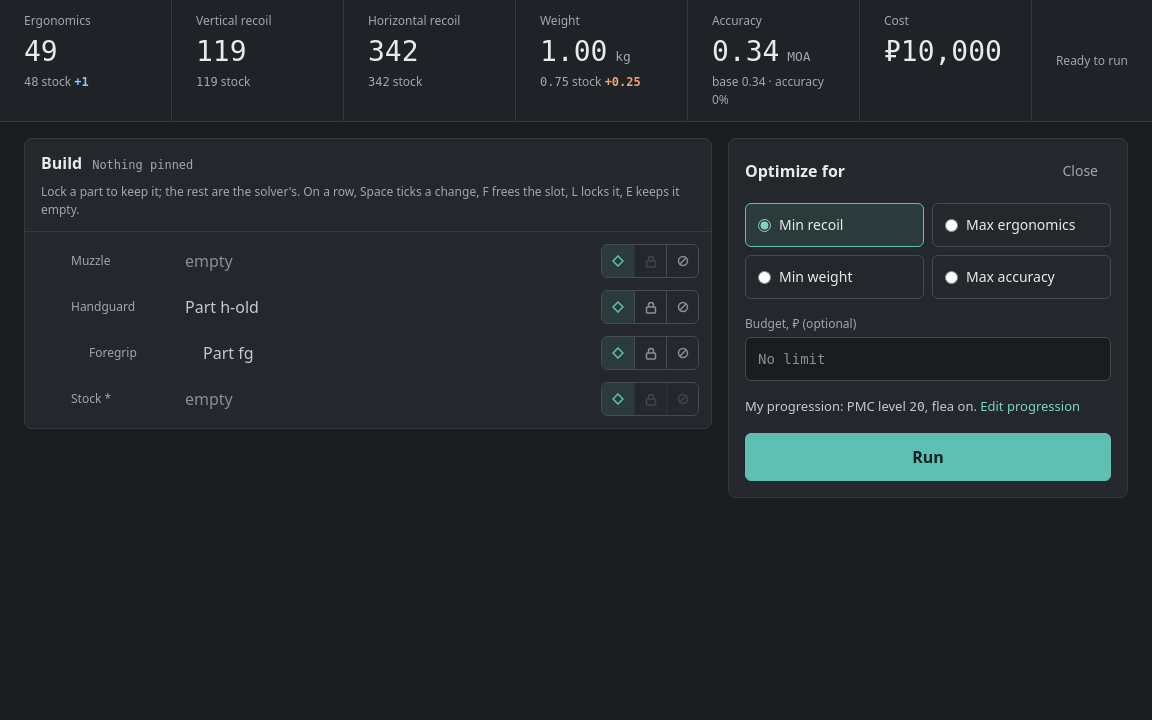
Test case: OptimizeWorkbench › pins › asks before keeping a slot empty clears the pins below it, and focus comes back
The image size is (1152, 720).
Press l in the list item "Foregrip Part fg", box top-left (25, 330), bottom-right (711, 376)
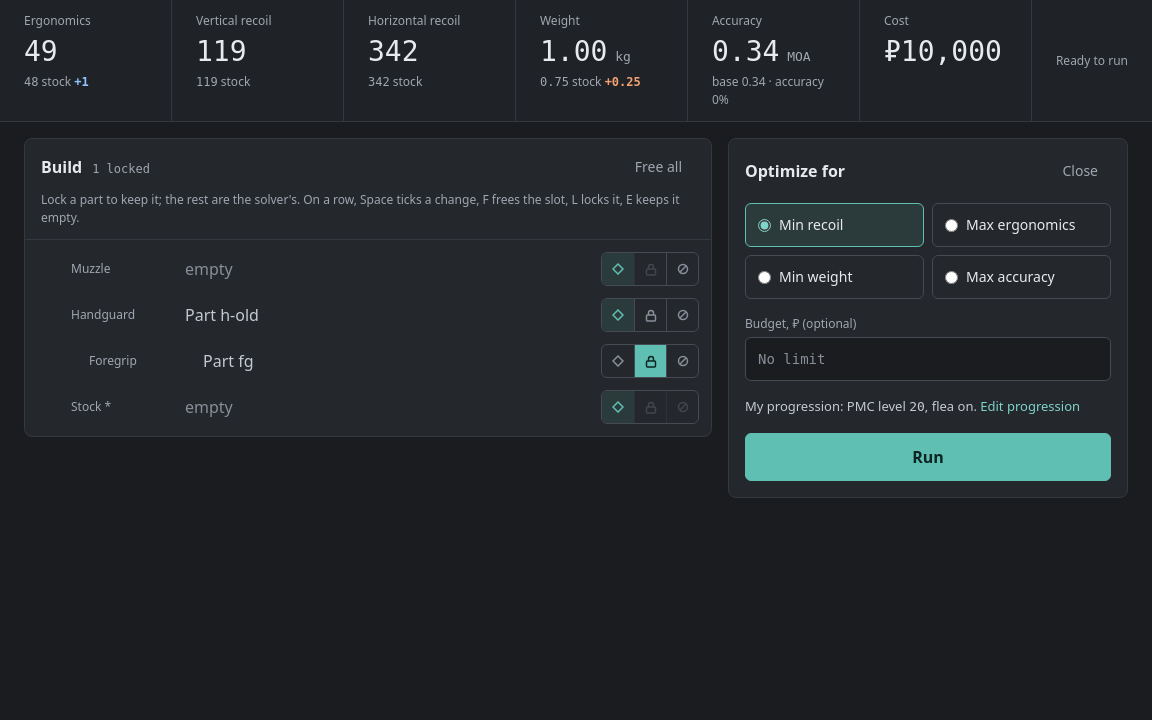
Result: the text "1 locked" is shown at top-left (92, 160), bottom-right (150, 178)
Press e in the list item "Handguard Part h-old", box top-left (25, 292), bottom-right (711, 338)
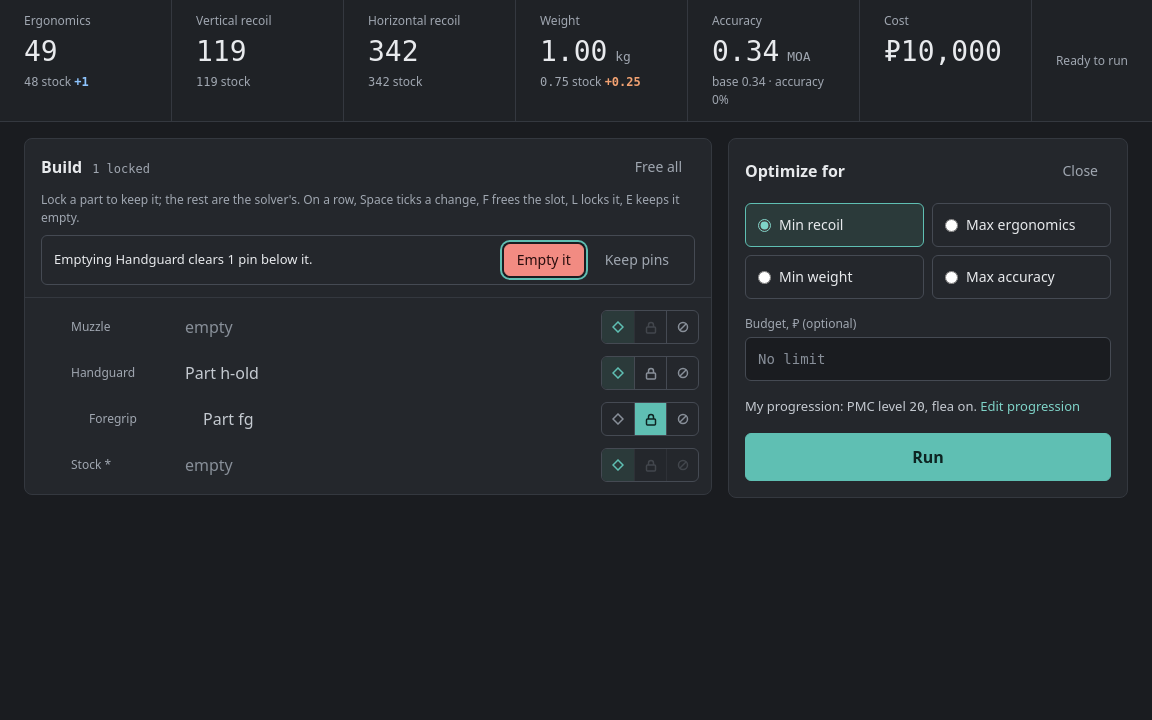
Result: the element named "Empty Handguard" shows "Emptying Handguard clears 1 pin below it." at top-left (41, 235), bottom-right (695, 285)
Click the button "Keep pins".
click(637, 260)  # box top-left (592, 244), bottom-right (682, 276)
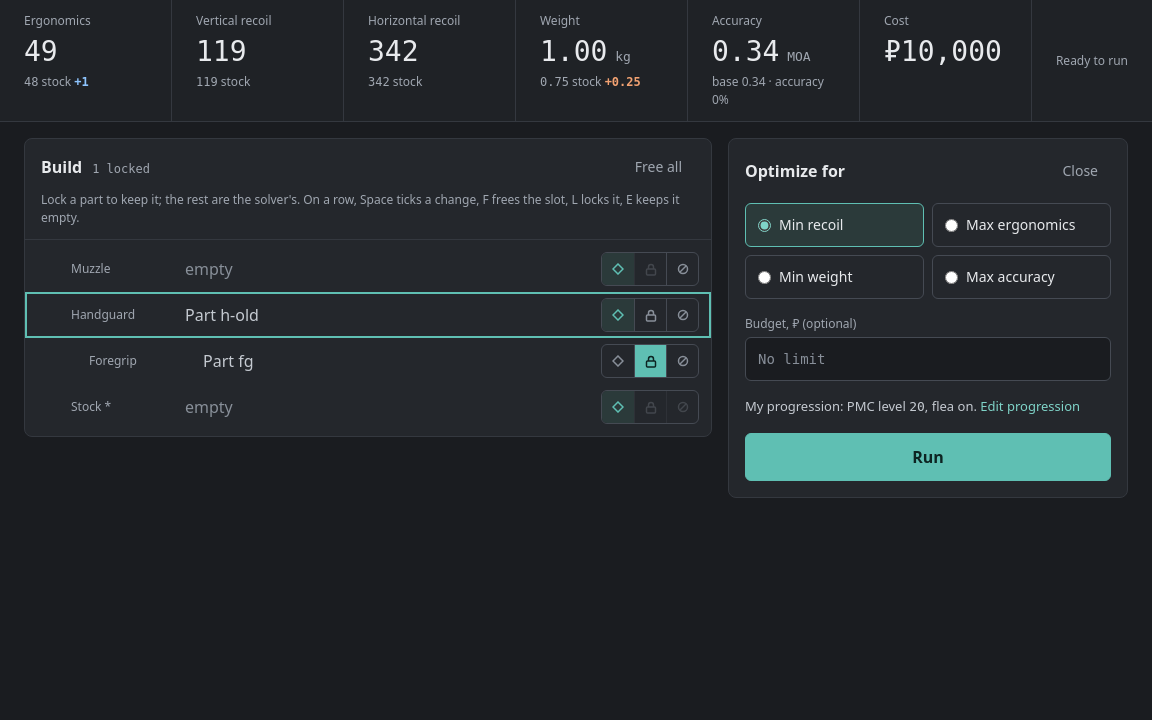
Press e in the list item "Handguard Part h-old", box top-left (25, 292), bottom-right (711, 338)
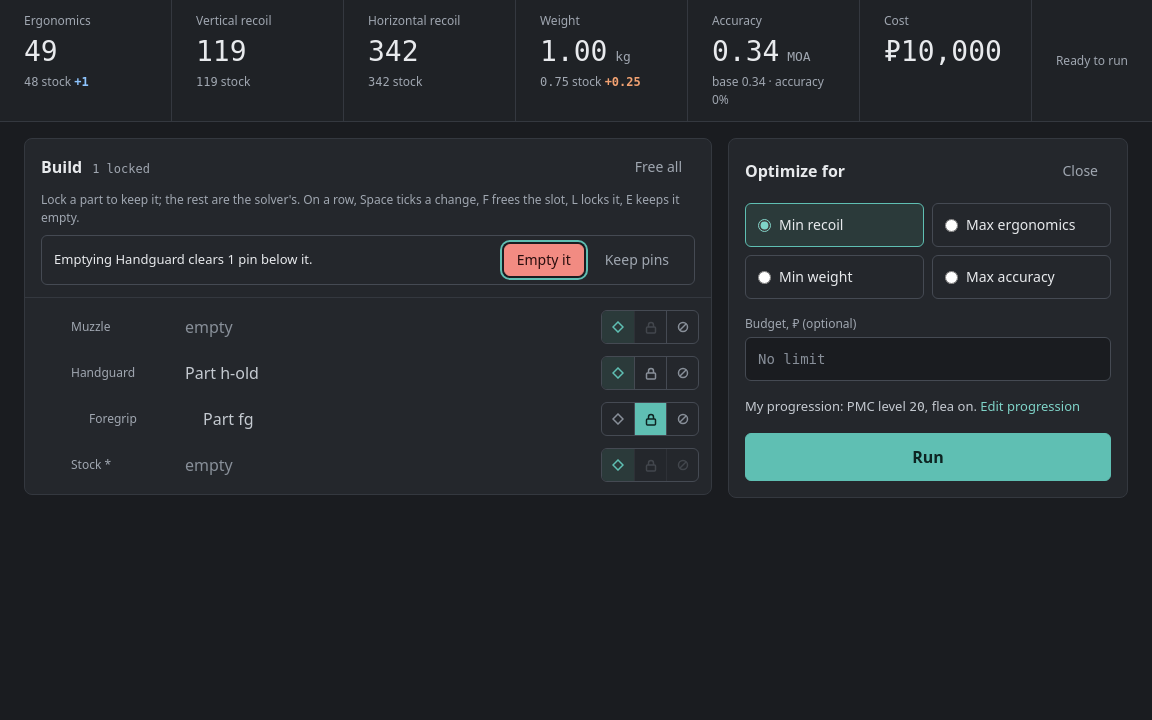
Click the button "Empty it".
click(544, 260)  # box top-left (504, 244), bottom-right (584, 276)
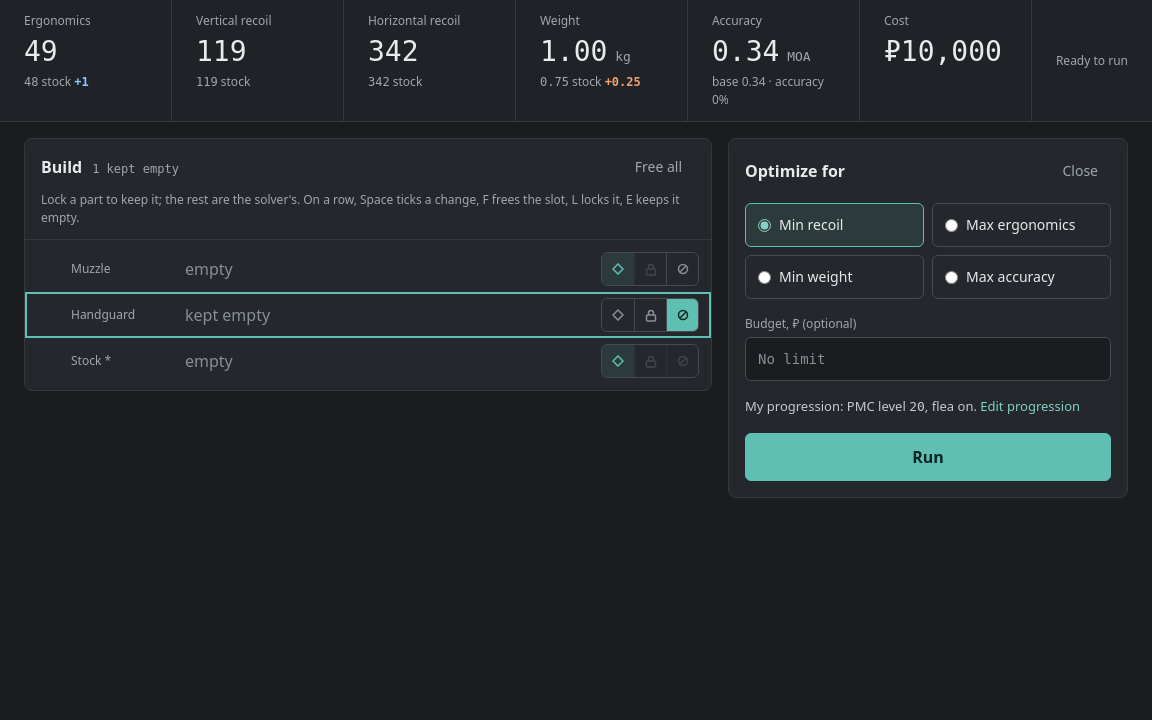
Result: the text "1 kept empty" is shown at top-left (92, 160), bottom-right (179, 178)
